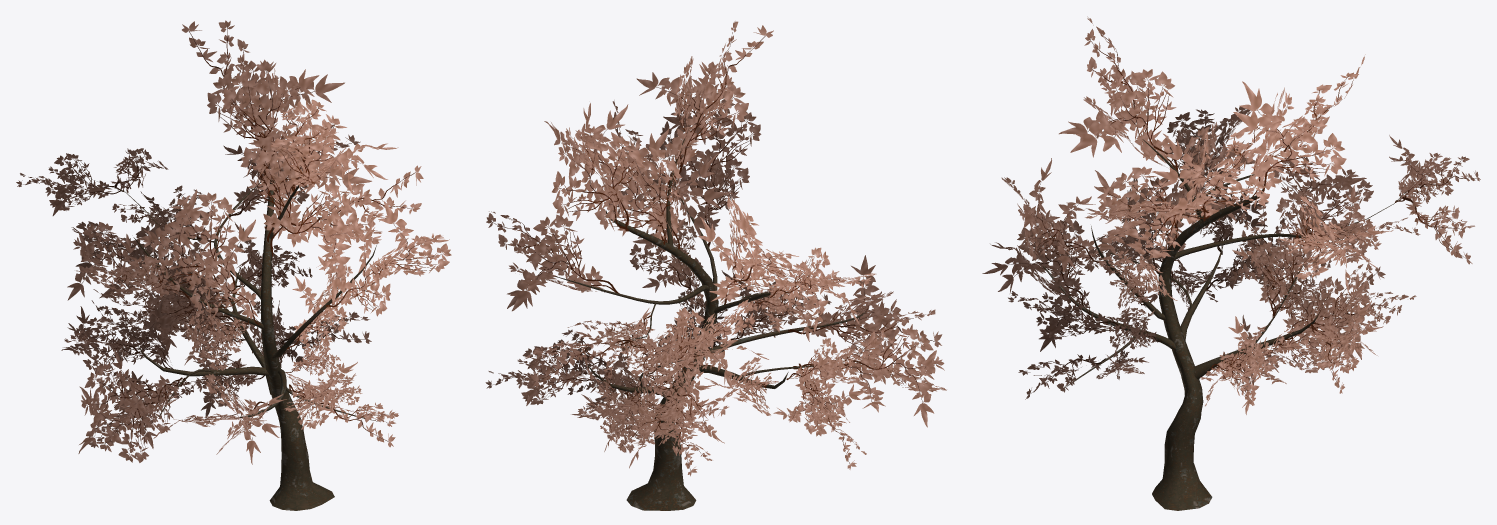
Rendered from Tree.fbx.
3 views of the same model, side by side, from view 1: azimuth 30°, elevation 25°; view 2: azimuth 150°, elevation 25°; view 3: azimuth 270°, elevation 25° (orthographic). The views are drawn at different scales.
Visible parts, largest first — view 1: Tree_Mesh; view 2: Tree_Mesh; view 3: Tree_Mesh.
Boxes of the visible parts, x1,y1,x2,y2 form: Tree_Mesh: (16,20,451,510); Tree_Mesh: (485,21,946,510); Tree_Mesh: (982,16,1480,510).
Size of the model in its own units: 927 by 1076 by 1077.
